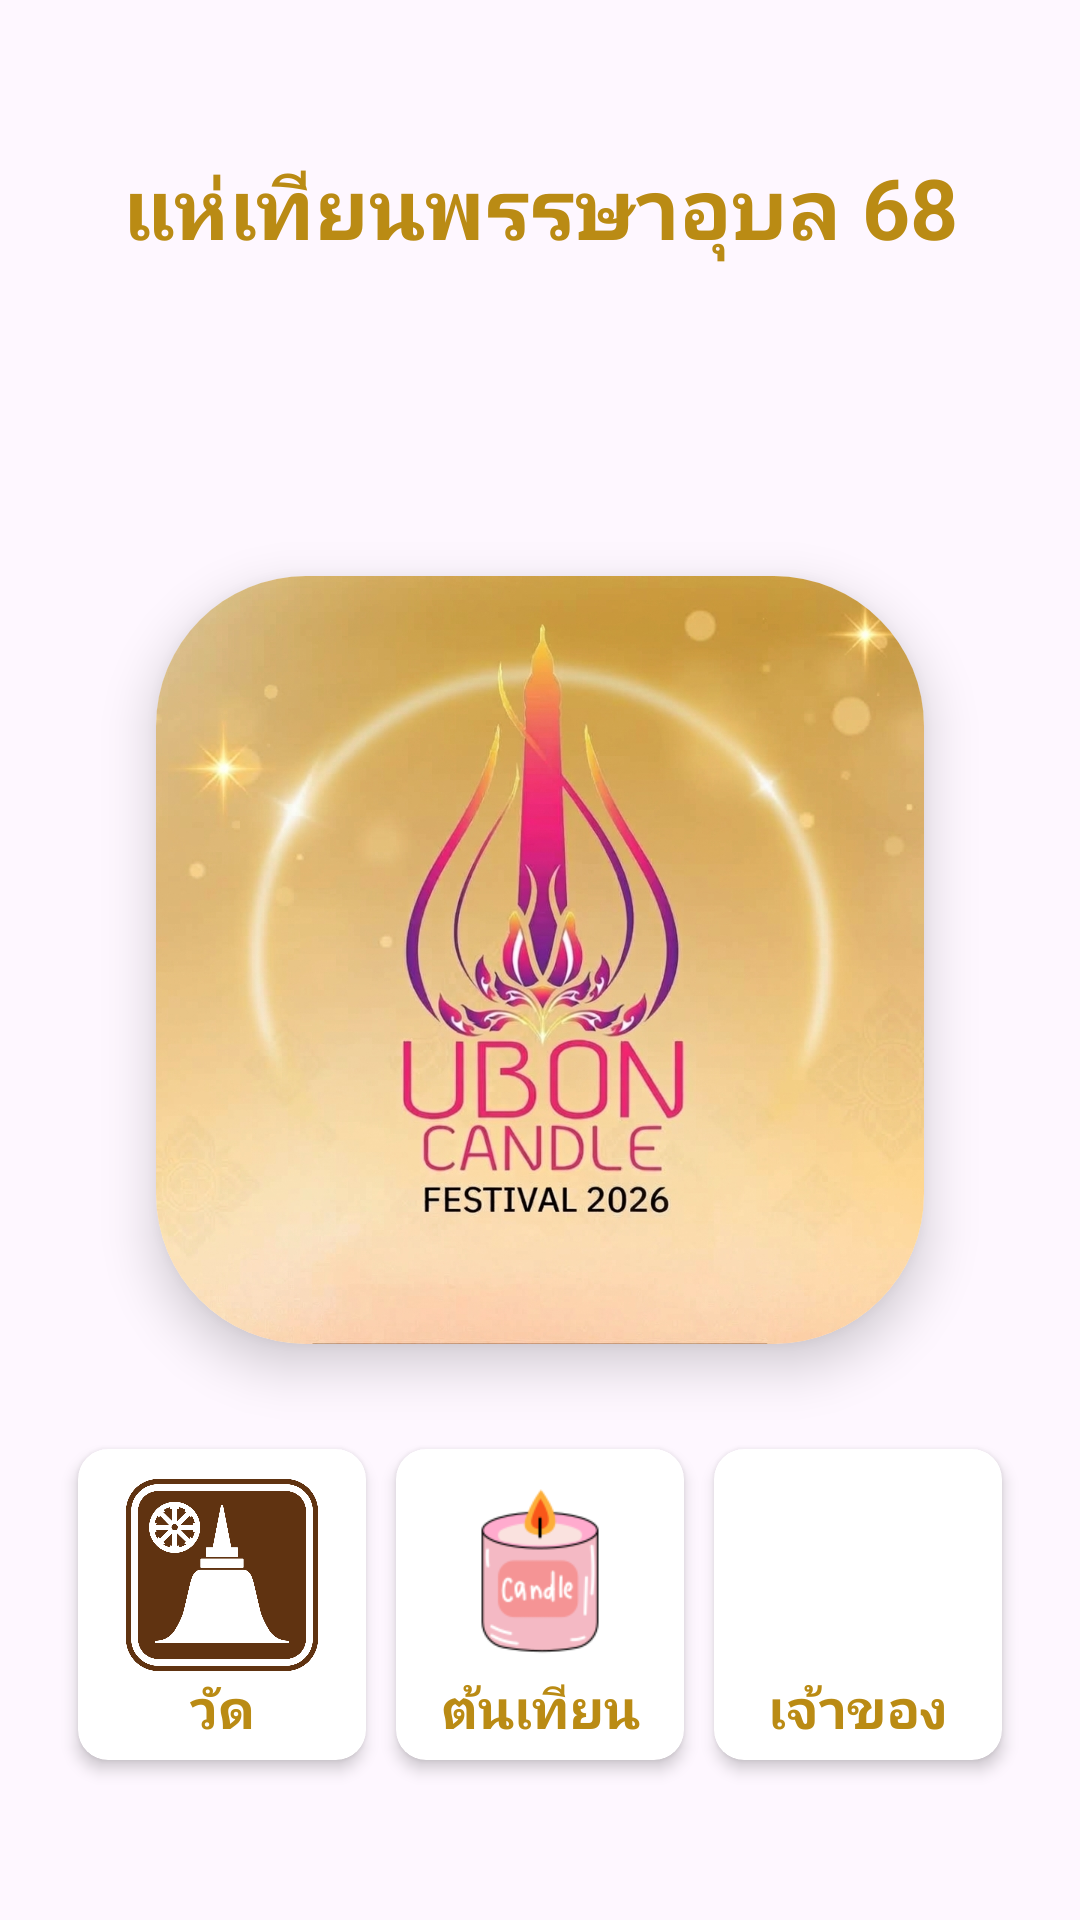

Where icons sit on this 1080*1920 app screen, as (x1, y1, x2, y2):
scented candle: (481, 1489, 599, 1653)
